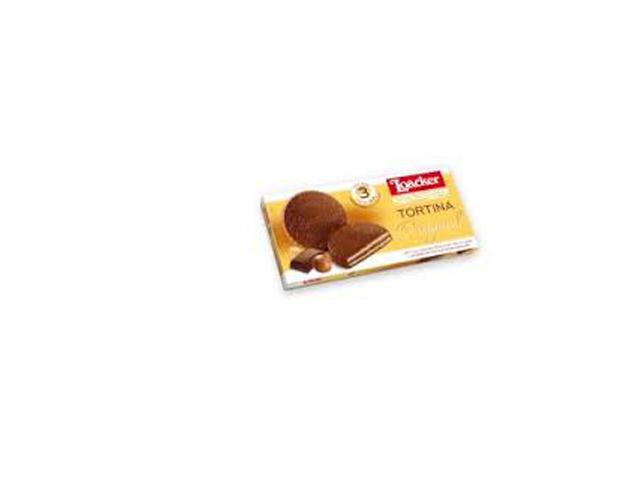chocolate: (245, 165, 511, 268)
